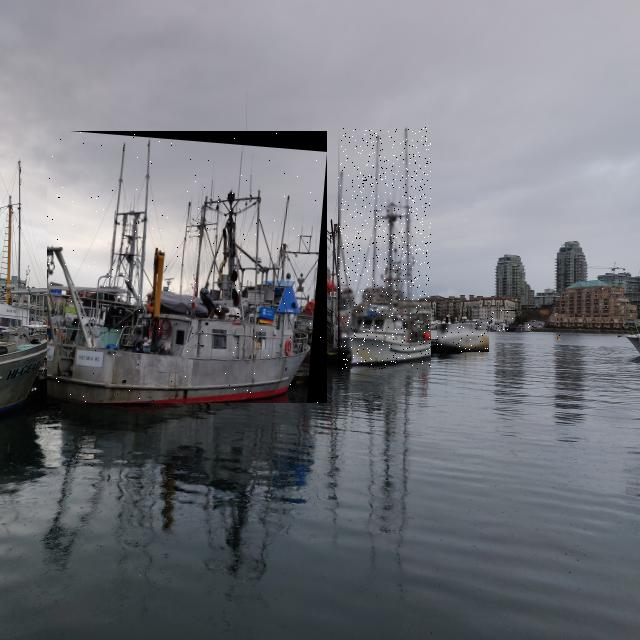boat: (48, 132, 330, 406), (338, 127, 431, 369), (437, 324, 489, 352), (487, 310, 516, 332), (476, 320, 490, 330), (493, 321, 504, 332), (525, 322, 533, 331)
mark: (557, 334, 561, 340)
